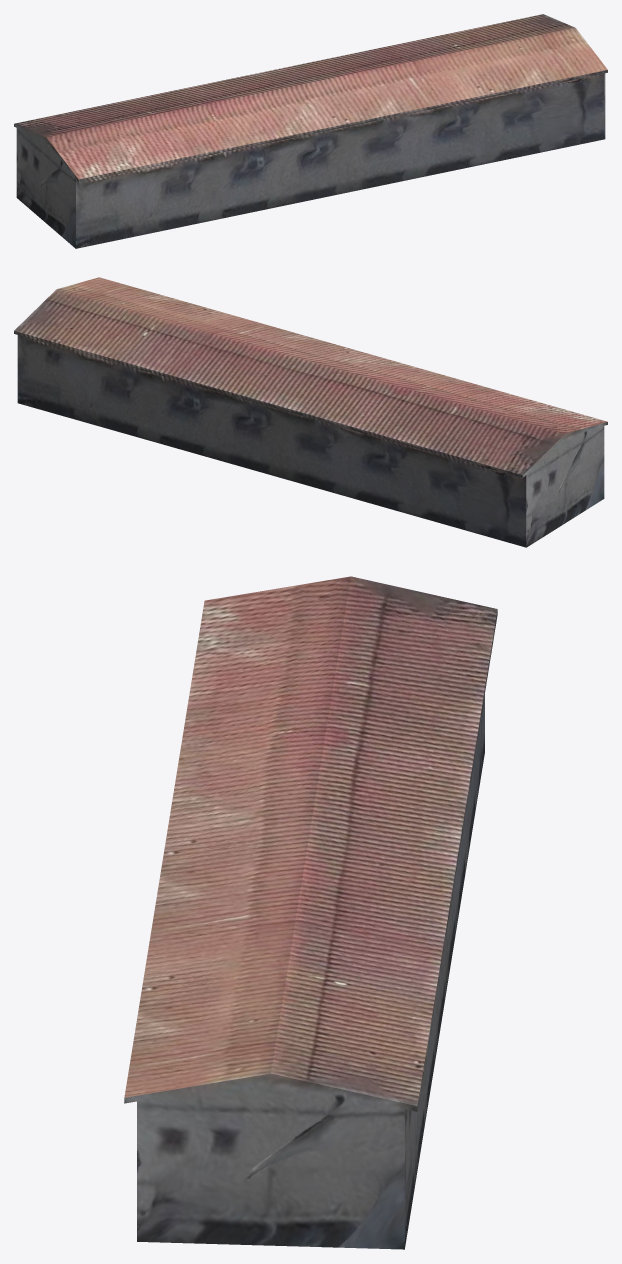
The model's file is Techni_zrif2.gltf.
3 renders of one model, top to bottom at view 1: azimuth 30°, elevation 25°; view 2: azimuth 150°, elevation 25°; view 3: azimuth 270°, elevation 25°, orthographic. The views are drawn at different scales.
Parts seen in each view (by area): view 1: node4, node3, node2, node1; view 2: node4, node2, node3, node1; view 3: node2, node3, node4.
Boxes of the visible parts, x1=… form: node4: x1=76, y1=73, x2=605, y2=248; node3: x1=46, y1=28, x2=607, y2=179; node2: x1=14, y1=14, x2=574, y2=248; node1: x1=78, y1=70, x2=607, y2=182; node4: x1=17, y1=335, x2=526, y2=547; node2: x1=14, y1=289, x2=607, y2=547; node3: x1=57, y1=277, x2=607, y2=433; node1: x1=14, y1=331, x2=522, y2=478; node2: x1=124, y1=576, x2=497, y2=1249; node3: x1=124, y1=576, x2=350, y2=1097; node4: x1=404, y1=694, x2=484, y2=1249.
Size of the model in its own units: 28.67 by 4.55 by 8.94.
